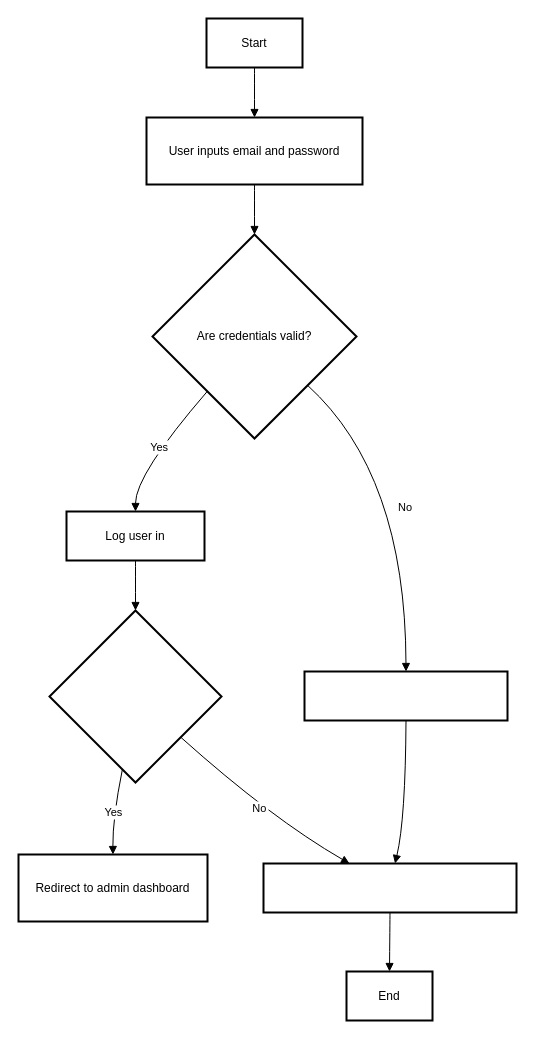
This 534x1038 diagram has some shape labels left out. The centre of each missing label's shape, as x and y in pixels:
Is user an admin?: the point at 135,696
Redirect to user dashboard: the point at 389,887
Show error message: the point at 405,695
